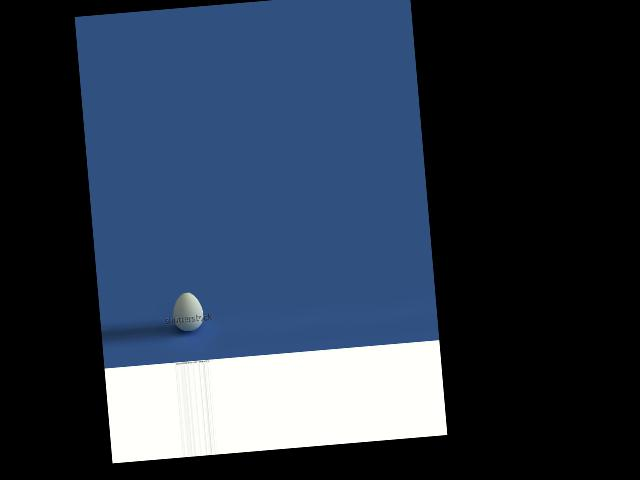egg: (171, 291, 205, 332)
